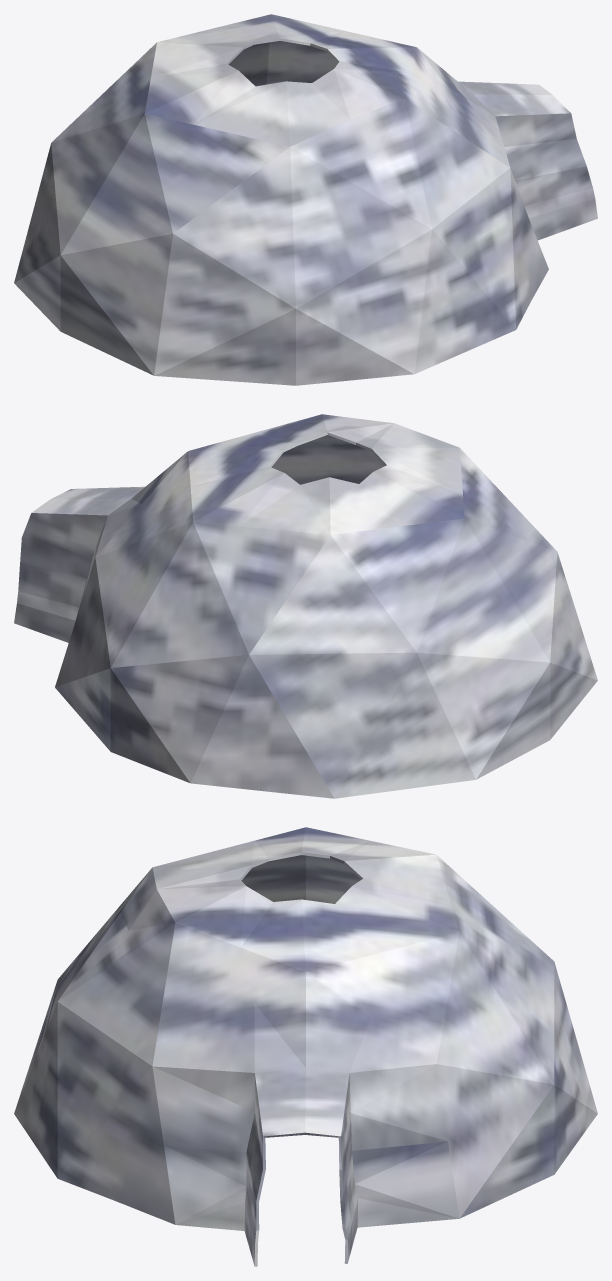
Rendered from igloo.dae.
3 renders of one model, top to bottom at view 1: azimuth 30°, elevation 25°; view 2: azimuth 150°, elevation 25°; view 3: azimuth 270°, elevation 25°, orthographic. The views are drawn at different scales.
Visible parts, largest first — view 1: Icosphere; view 2: Icosphere; view 3: Icosphere.
Part boxes in pixels (x1,y1,x2,y2): Icosphere: [14, 14, 597, 385]; Icosphere: [14, 414, 597, 798]; Icosphere: [14, 827, 597, 1266].
Bounding box in the file's own units: 2.22 × 2 × 0.9454.
Materials: 1 (1 with a texture image).
